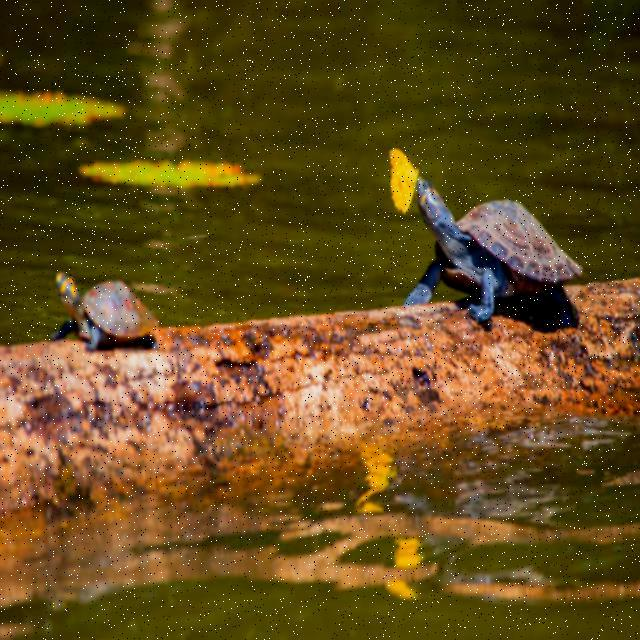tortoise: (386, 172, 594, 346), (51, 264, 159, 356)
